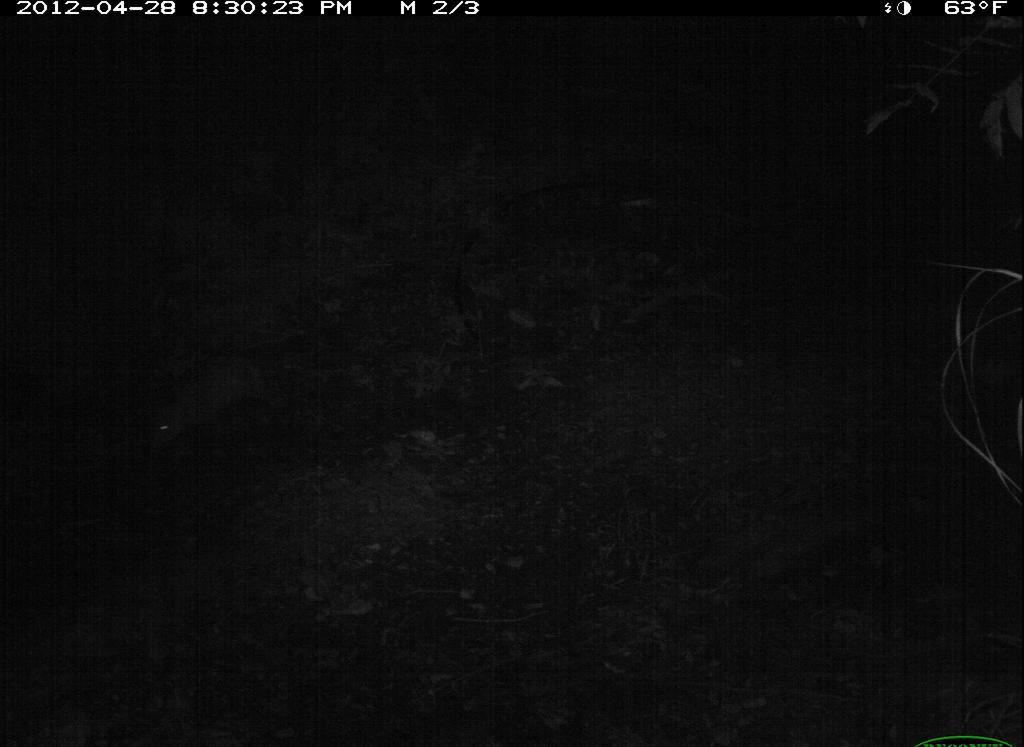opossum: (129, 342, 278, 466)
